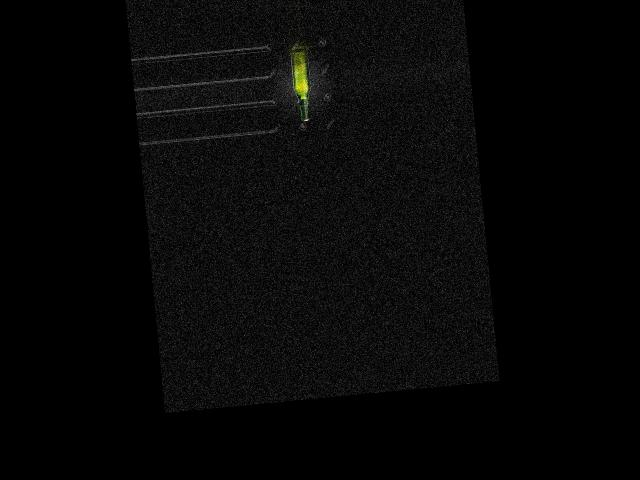beer: (289, 49, 313, 122)
